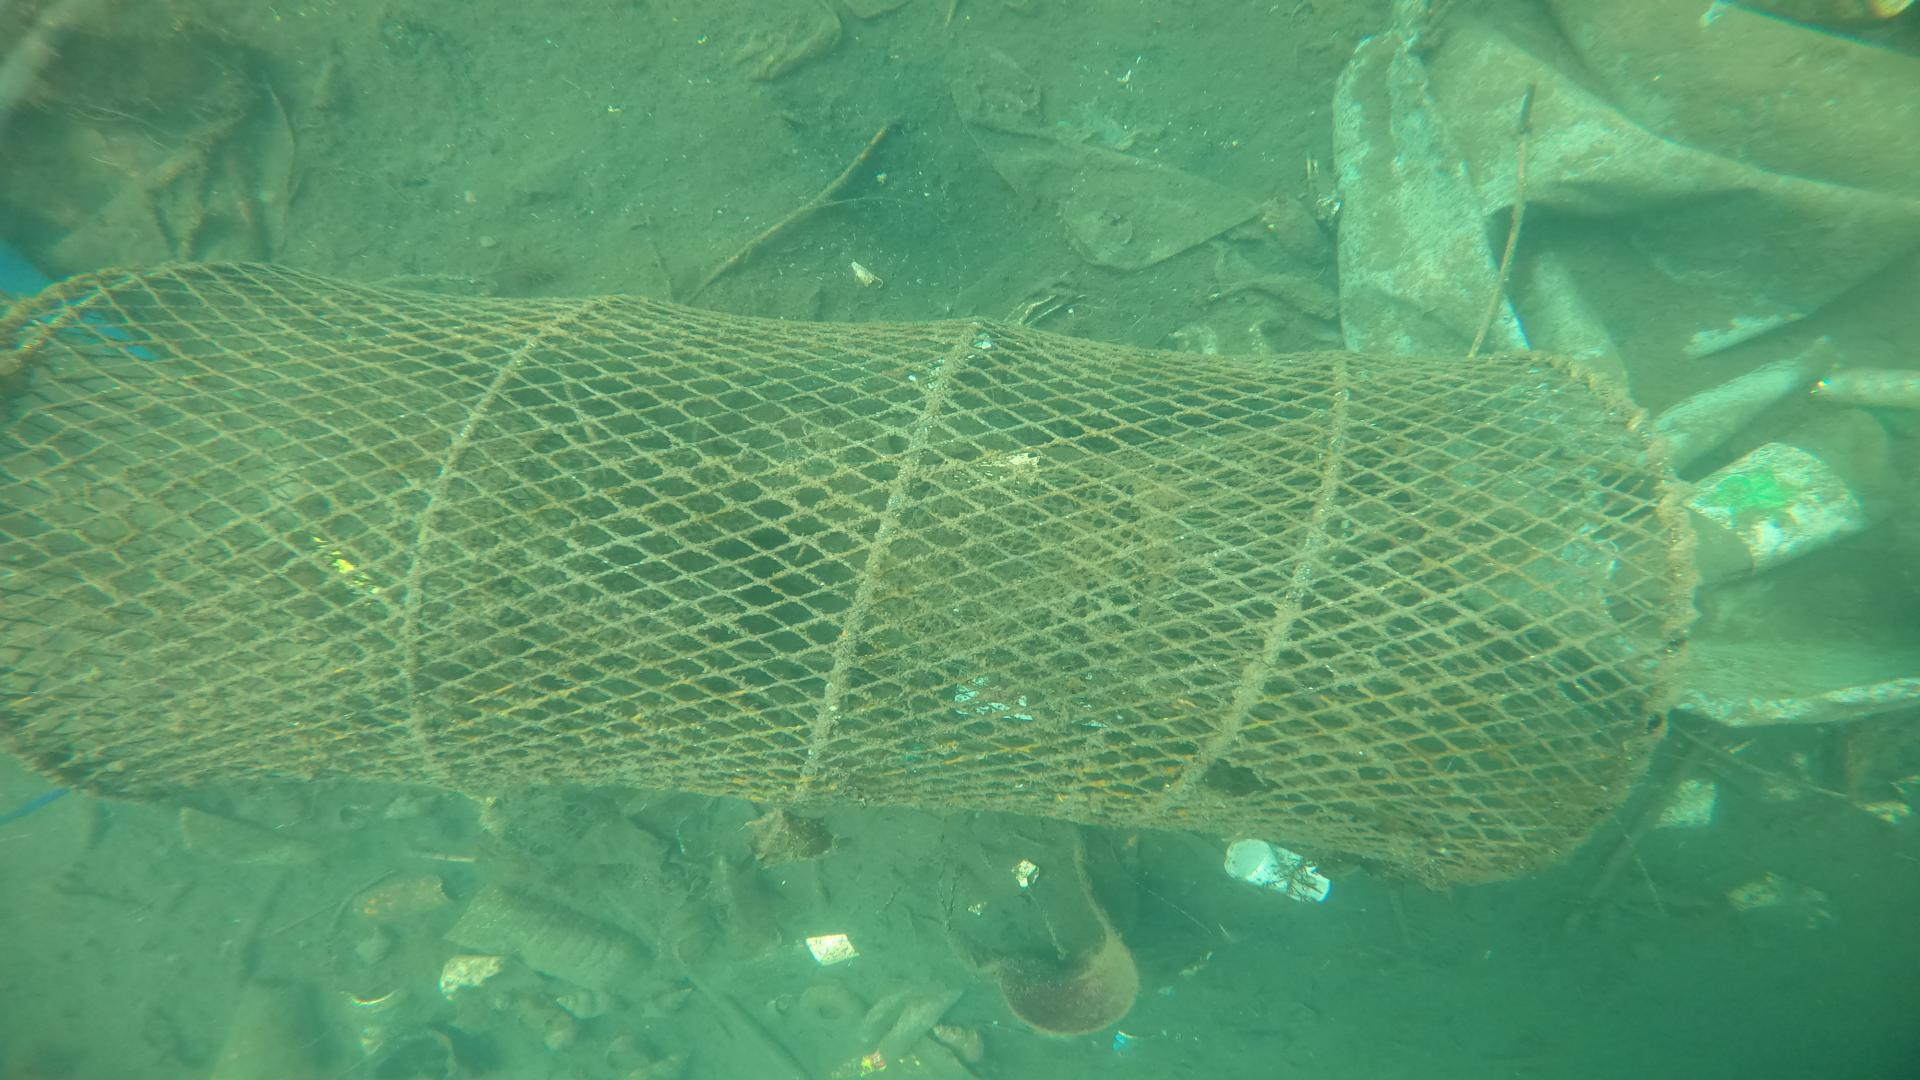spring fish trap: (0, 255, 1698, 885)
